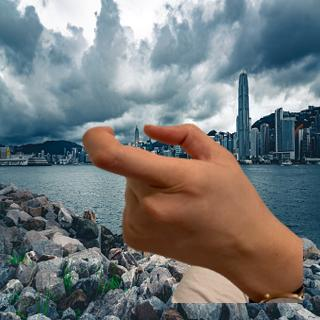HATE: (73, 116, 274, 276)
